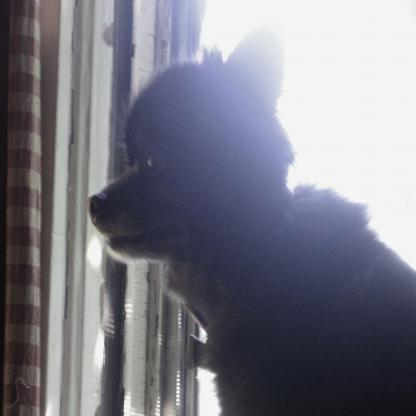dog: (85, 19, 415, 414)
